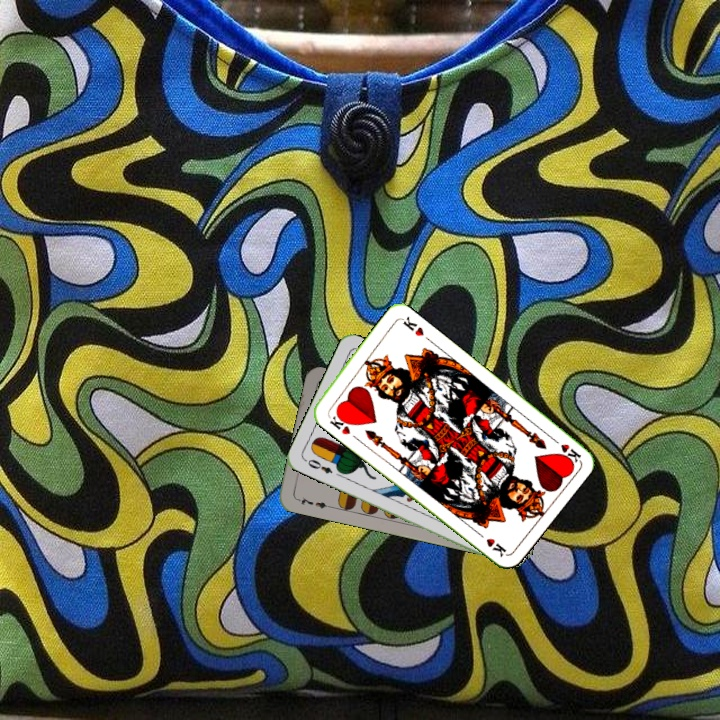E7: (293, 493, 333, 511)
EO: (304, 455, 335, 476)
HK: (546, 433, 583, 466), (325, 409, 354, 437)
